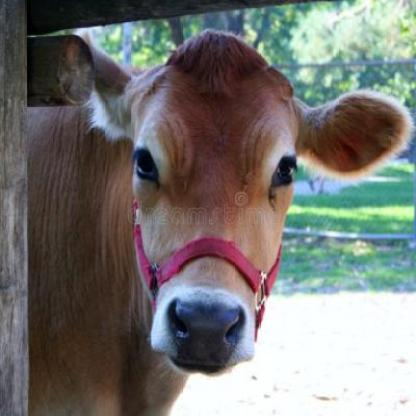lower: (173, 360, 222, 376)
mouth: (152, 286, 254, 378)
upper: (192, 309, 217, 341)
